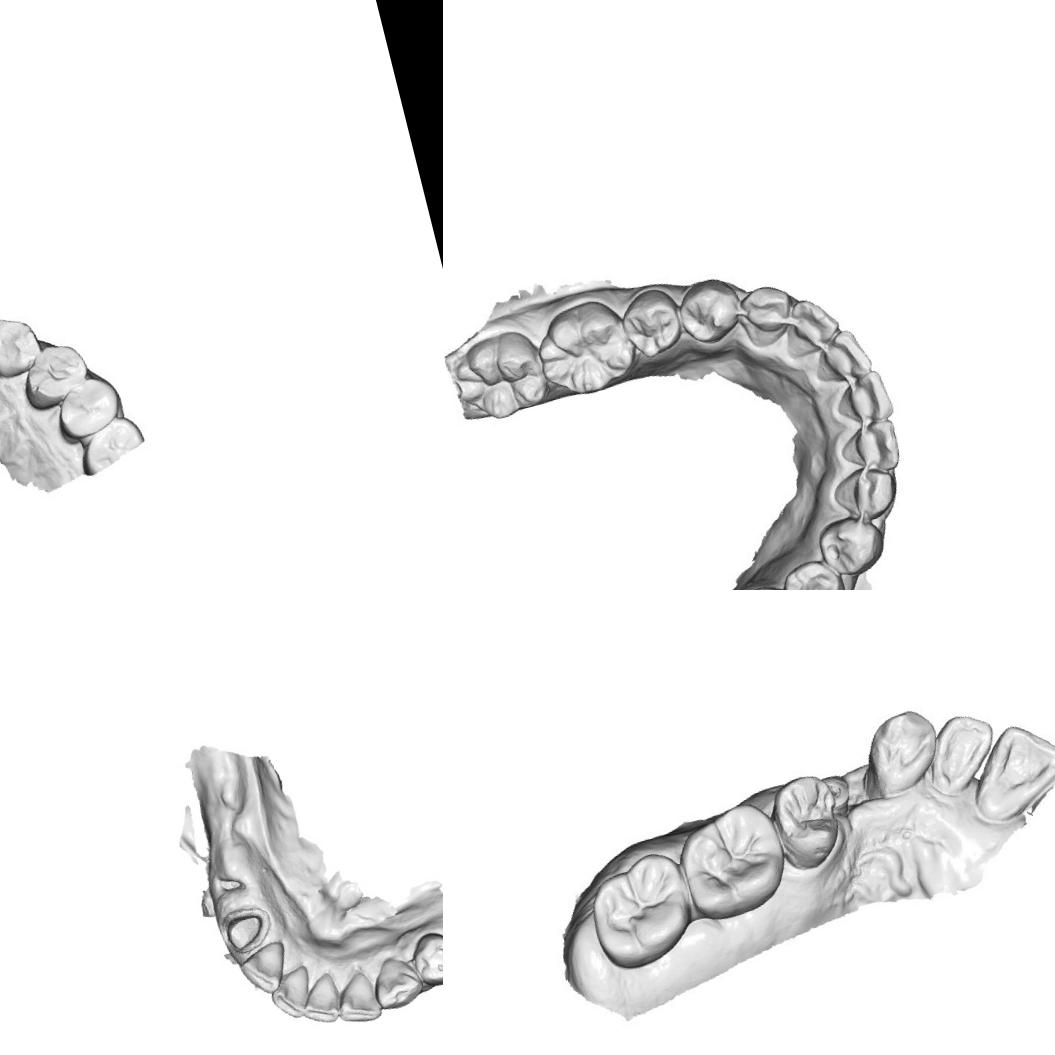canine: (846, 701, 952, 807), (734, 277, 800, 352), (827, 463, 900, 526), (366, 950, 427, 1014), (0, 310, 46, 383)
crown: (218, 902, 276, 956)
incisor: (955, 711, 1055, 832), (916, 704, 1008, 801), (778, 291, 846, 362), (838, 410, 907, 475), (812, 326, 876, 392), (833, 366, 899, 430), (233, 938, 294, 1000), (265, 962, 320, 1024), (329, 968, 383, 1030), (294, 970, 346, 1030)
molar: (576, 848, 702, 976), (674, 800, 790, 928), (530, 296, 638, 408), (451, 327, 553, 429)
premolar: (764, 763, 852, 869), (669, 268, 748, 350), (15, 336, 98, 414), (47, 371, 128, 446), (618, 279, 686, 362), (816, 511, 888, 574), (404, 914, 443, 990), (777, 552, 845, 590)
